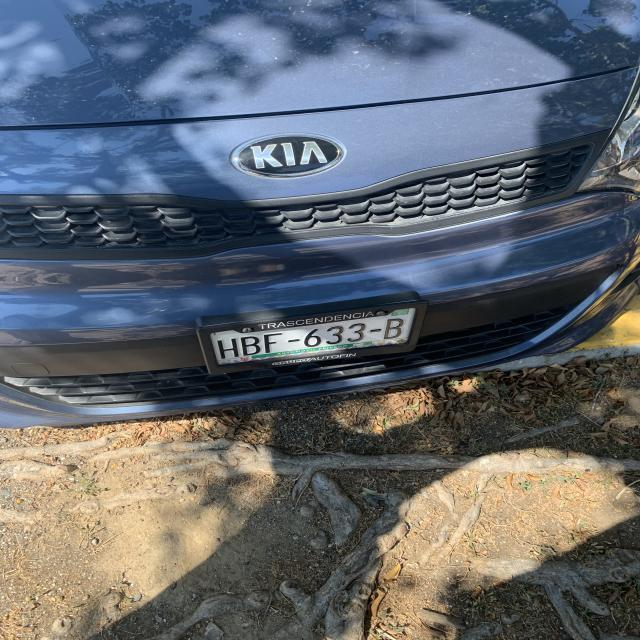placa: (198, 315, 431, 356)
